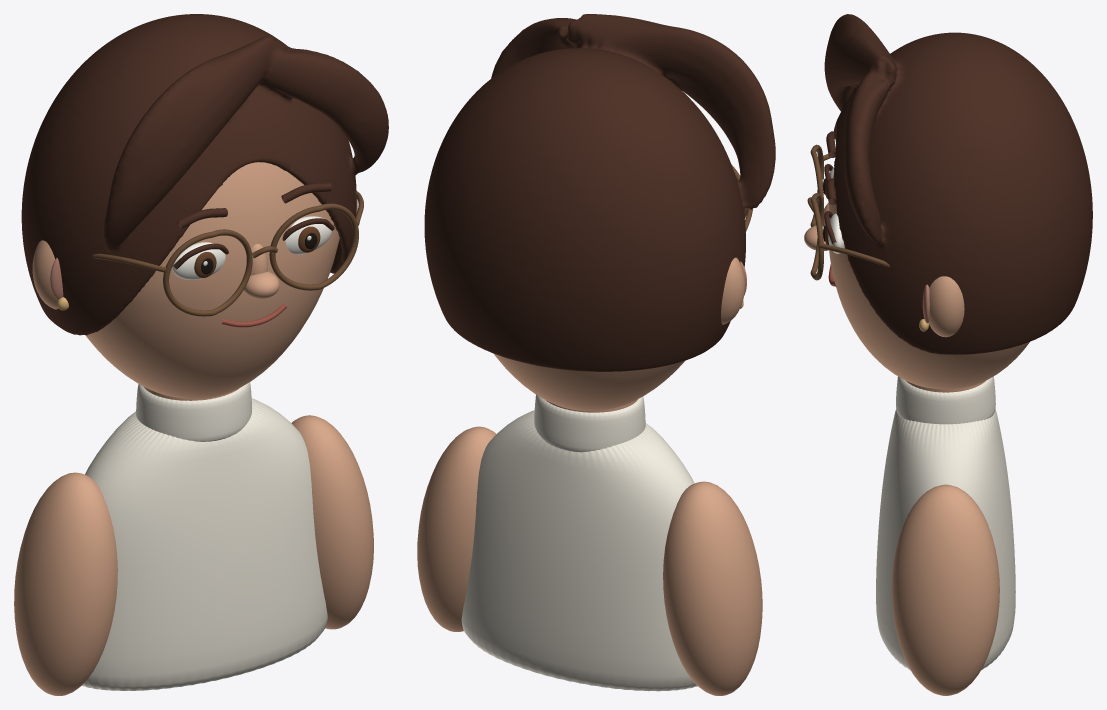
Rendered from avatar-bust.glb.
3 views of the same model, side by side, from view 1: azimuth 30°, elevation 25°; view 2: azimuth 150°, elevation 25°; view 3: azimuth 270°, elevation 25° (orthographic). The views are drawn at different scales.
Visible parts, largest first — view 1: Sculpted short hair, Sleeveless top, Face, Bare upper arm, Bare upper arm.001, Mock neckline, Round spectacle rim, Round spectacle rim.001, Ear, Eye white, Nose tip, Eye white.001; view 2: Sculpted short hair, Sleeveless top, Bare upper arm, Bare upper arm.001, Face, Mock neckline, Ear; view 3: Sculpted short hair, Bare upper arm.001, Sleeveless top, Face, Mock neckline, Ear.001, Round spectacle rim.001, Round spectacle rim.
Boxes of the visible parts, x1,y1,x2,y2 form: Sculpted short hair: (21, 14, 388, 335); Sleeveless top: (81, 398, 327, 690); Face: (85, 162, 339, 398); Bare upper arm: (14, 472, 117, 695); Bare upper arm.001: (291, 415, 373, 629); Mock neckline: (136, 382, 251, 441); Round spectacle rim: (163, 229, 252, 316); Round spectacle rim.001: (269, 203, 358, 290); Ear: (32, 240, 58, 309); Eye white: (172, 242, 225, 279); Nose tip: (243, 271, 279, 298); Eye white.001: (285, 216, 331, 254); Sculpted short hair: (424, 14, 775, 371); Sleeveless top: (461, 410, 697, 691); Bare upper arm: (663, 481, 762, 695); Bare upper arm.001: (417, 426, 496, 631); Face: (494, 354, 684, 410); Mock neckline: (534, 394, 645, 452); Ear: (721, 257, 744, 324); Sculpted short hair: (824, 14, 1092, 354); Bare upper arm.001: (891, 484, 999, 695); Sleeveless top: (876, 408, 1015, 670); Face: (829, 173, 1029, 389); Mock neckline: (896, 376, 995, 424); Ear.001: (928, 276, 964, 337); Round spectacle rim.001: (810, 193, 823, 280); Round spectacle rim: (810, 144, 823, 226).
Size of the model in its own units: 1.84 by 3.27 by 1.44.
